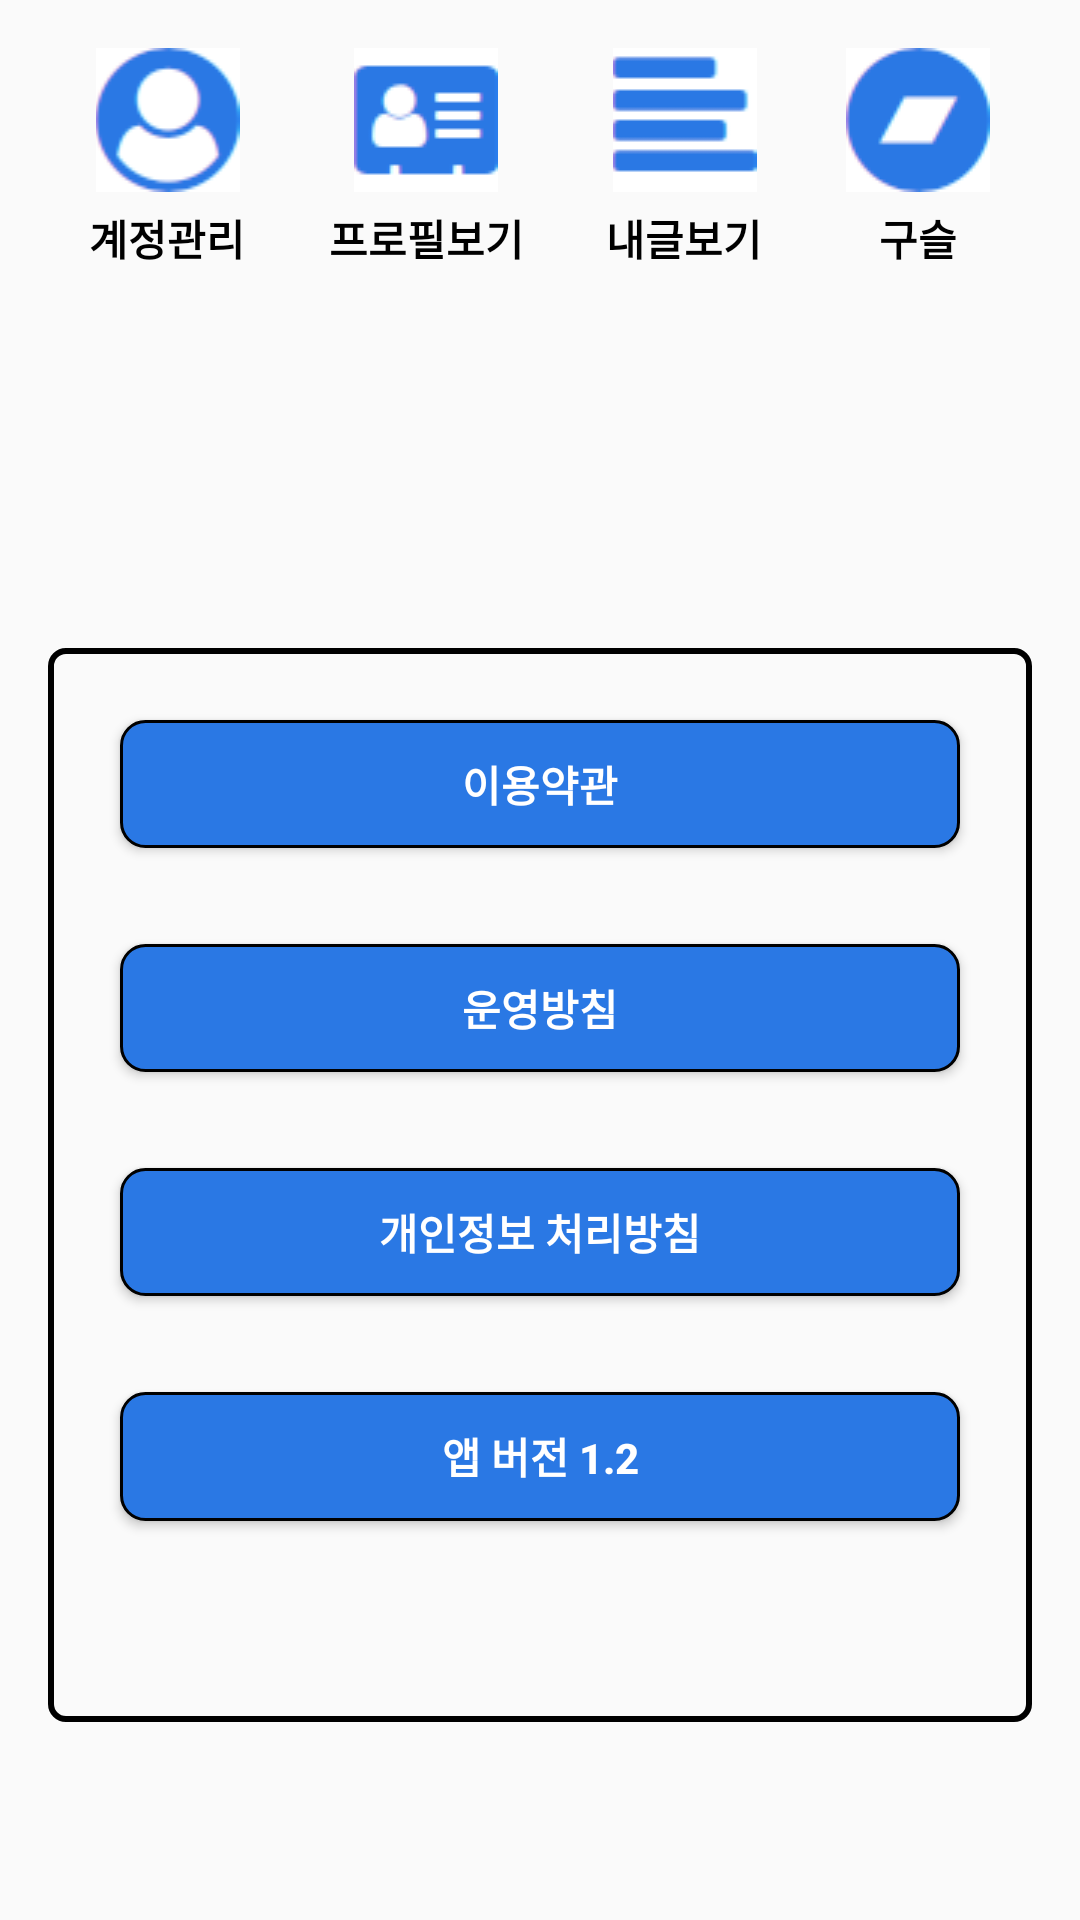

Icons on this 1080px x 1920px Android screen, each with its box as (x1, y1, x2, y2):
freg mypage: (96, 48, 240, 192)
